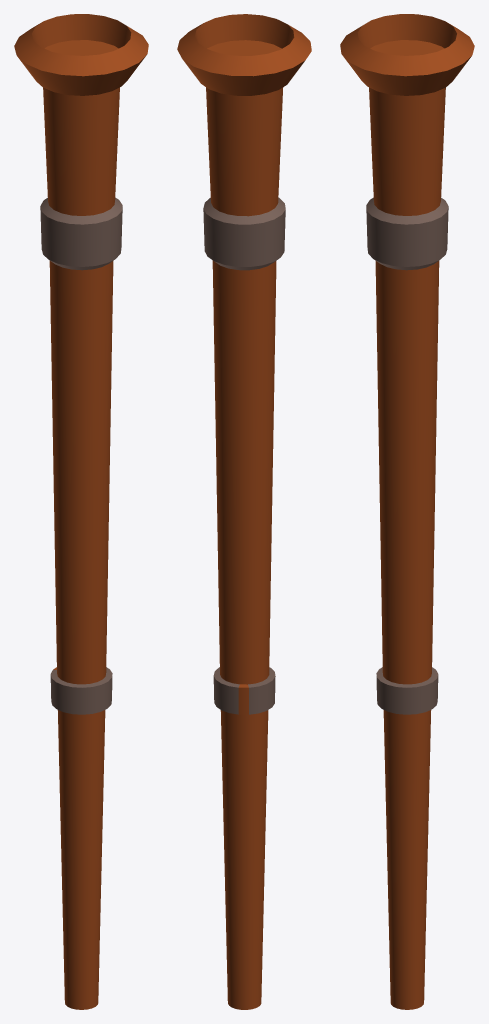
Rendered from Antorcha.fbx.
3 renders of one model, left to right at view 1: azimuth 30°, elevation 25°; view 2: azimuth 150°, elevation 25°; view 3: azimuth 330°, elevation 25°, orthographic.
Visible parts, largest first — view 1: Cylinder.020; view 2: Cylinder.020; view 3: Cylinder.020.
Part boxes in pixels (box(x1,y1,x2,y2)): Cylinder.020: box(14, 14, 148, 1009); Cylinder.020: box(177, 14, 311, 1009); Cylinder.020: box(340, 14, 474, 1009).
Bounding box in the file's own units: 18.86 × 149 × 18.79.
